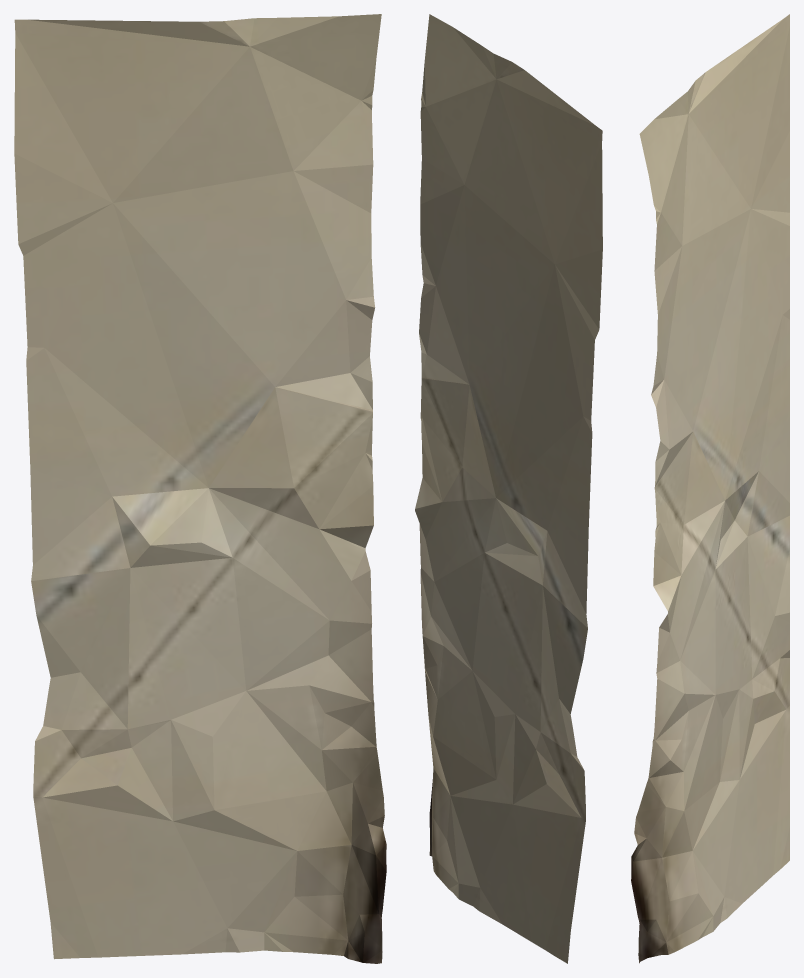
The picture shows the model from 3 angles, left to right: view 1: azimuth 30°, elevation 25°; view 2: azimuth 150°, elevation 25°; view 3: azimuth 270°, elevation 25°; orthographic projection. The views are drawn at different scales.
Bounding box in the file's own units: 1.04 × 3.35 × 0.5808.
1 material, 1 textured.
